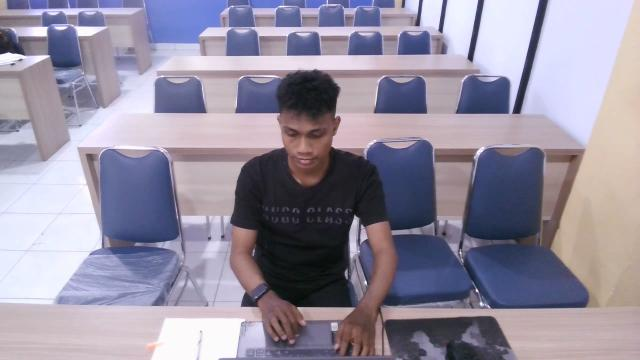Normal_Focus: (210, 53, 400, 360)
